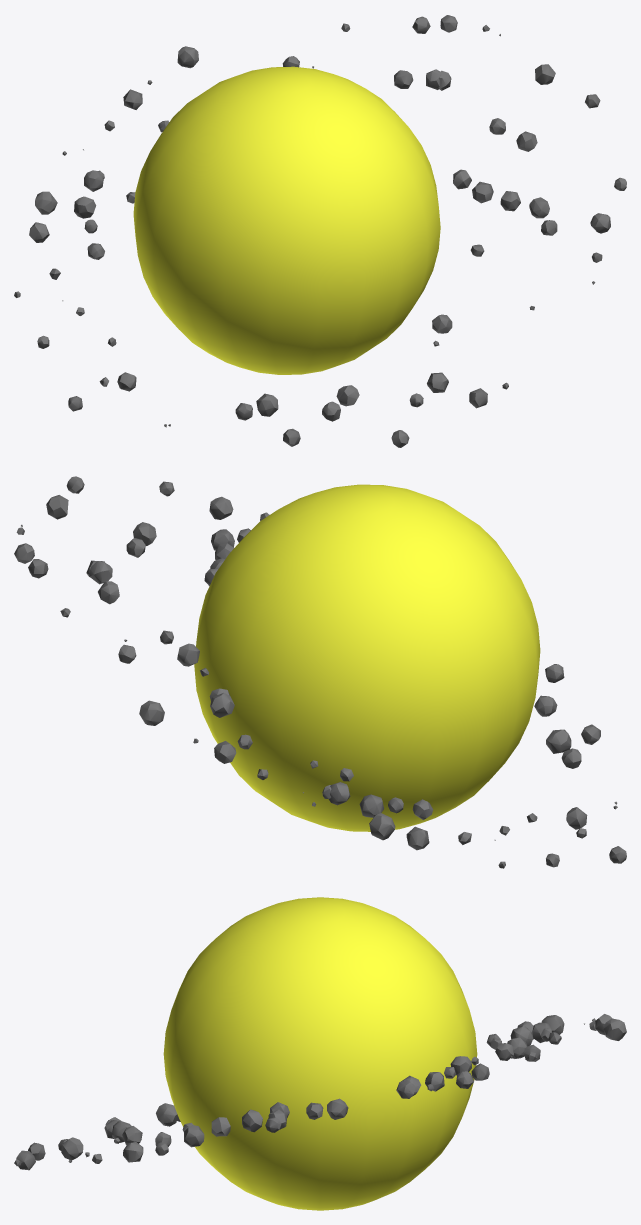
Rendered from Asteroids.gltf.
3 renders of one model, top to bottom at view 1: azimuth 30°, elevation 25°; view 2: azimuth 150°, elevation 25°; view 3: azimuth 270°, elevation 25°, orthographic. The views are drawn at different scales.
Visible parts, largest first — view 1: Object 8, Asteroid Field; view 2: Object 8, Asteroid Field; view 3: Object 8, Asteroid Field.
Part boxes in pixels (left/top/right/bottom): Object 8: left=133, top=66, right=440, bottom=374; Asteroid Field: left=14, top=15, right=626, bottom=447; Object 8: left=194, top=484, right=540, bottom=831; Asteroid Field: left=14, top=476, right=626, bottom=868; Object 8: left=163, top=897, right=477, bottom=1210; Asteroid Field: left=14, top=1014, right=626, bottom=1170.
Bounding box in the file's own units: 0.1917 × 0.1 × 0.1954.
